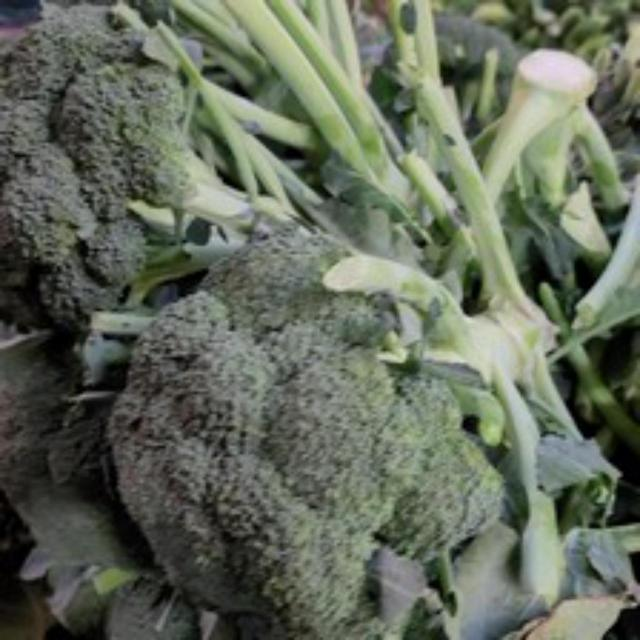broccoli: (97, 223, 517, 637)
